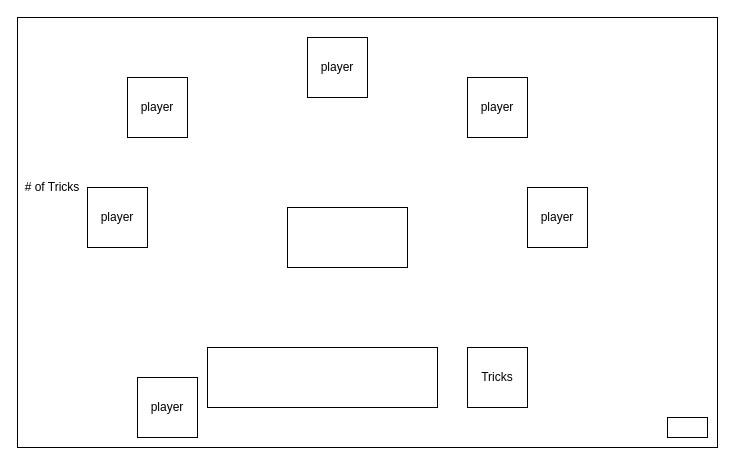
The diagram is 735 pixels wide and 465 high, and some of its shapes have lost their labels. Each missing label, with the centre of its shape:
"Current Pile" goes at [347,237].
"Menu" goes at [687,427].
"Players cards" goes at [322,377].
